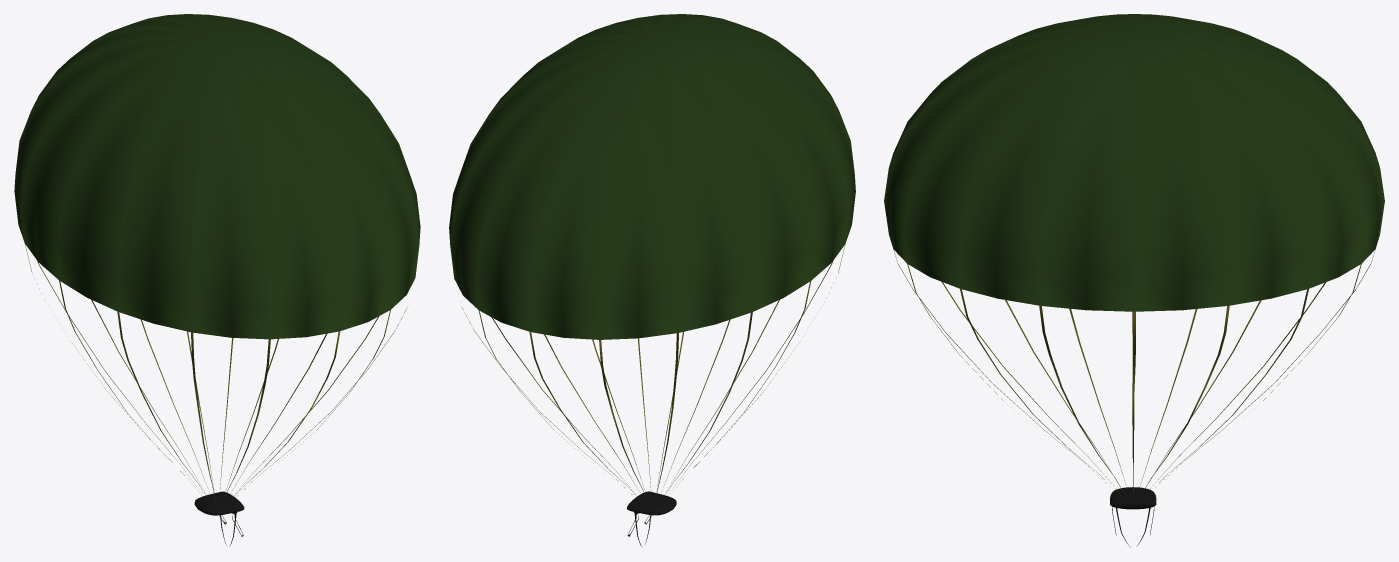
File: Parachute.fbx
The picture shows the model from 3 angles, left to right: view 1: azimuth 30°, elevation 25°; view 2: azimuth 150°, elevation 25°; view 3: azimuth 270°, elevation 25°; orthographic projection.
Parts seen in each view (by area): view 1: Sphere, Cylinder; view 2: Sphere, Cylinder; view 3: Sphere, Cylinder.
Boxes of the visible parts, x1=… form: Sphere: x1=14, y1=14, x2=420, y2=505; Cylinder: x1=194, y1=491, x2=244, y2=546; Sphere: x1=449, y1=14, x2=855, y2=503; Cylinder: x1=627, y1=491, x2=676, y2=547; Sphere: x1=884, y1=14, x2=1384, y2=497; Cylinder: x1=1110, y1=487, x2=1156, y2=547.
Size of the model in its own units: 112 by 169 by 150.
